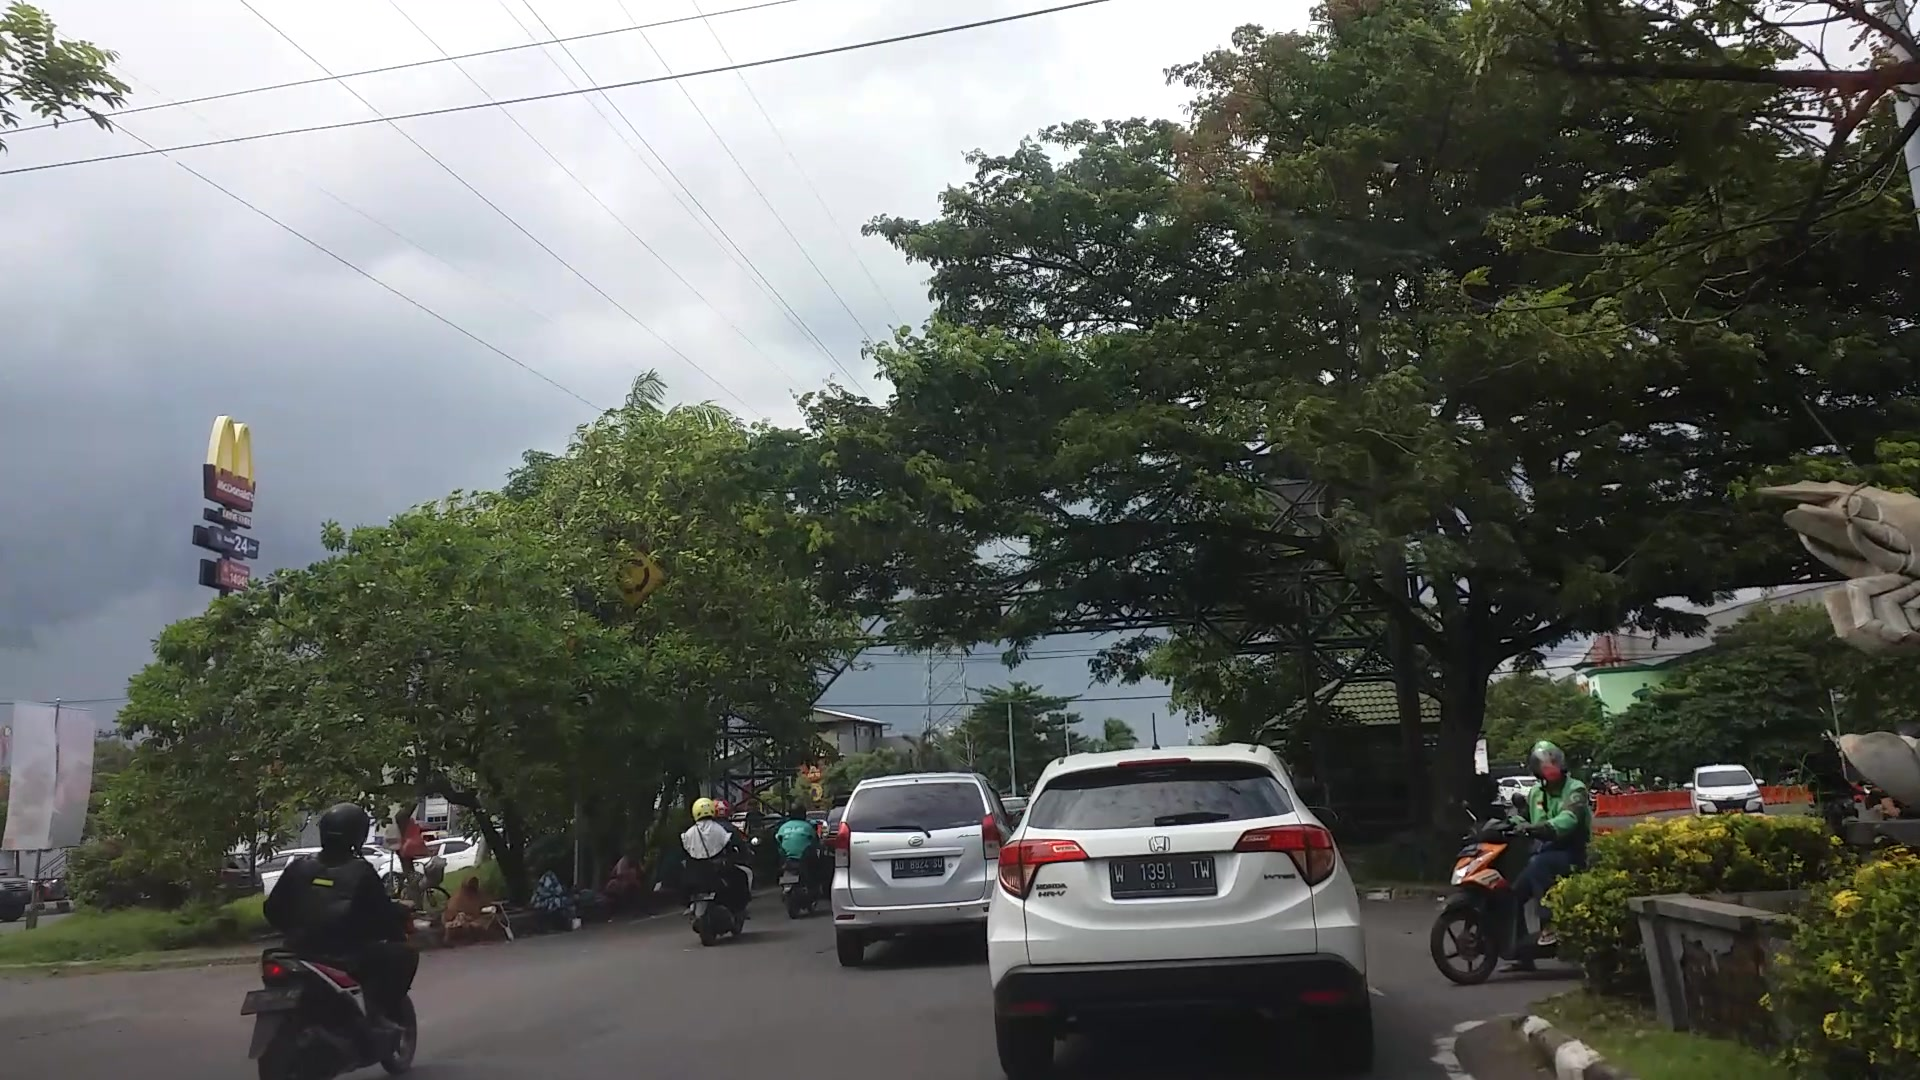plate_positive: (1110, 856, 1217, 898)
